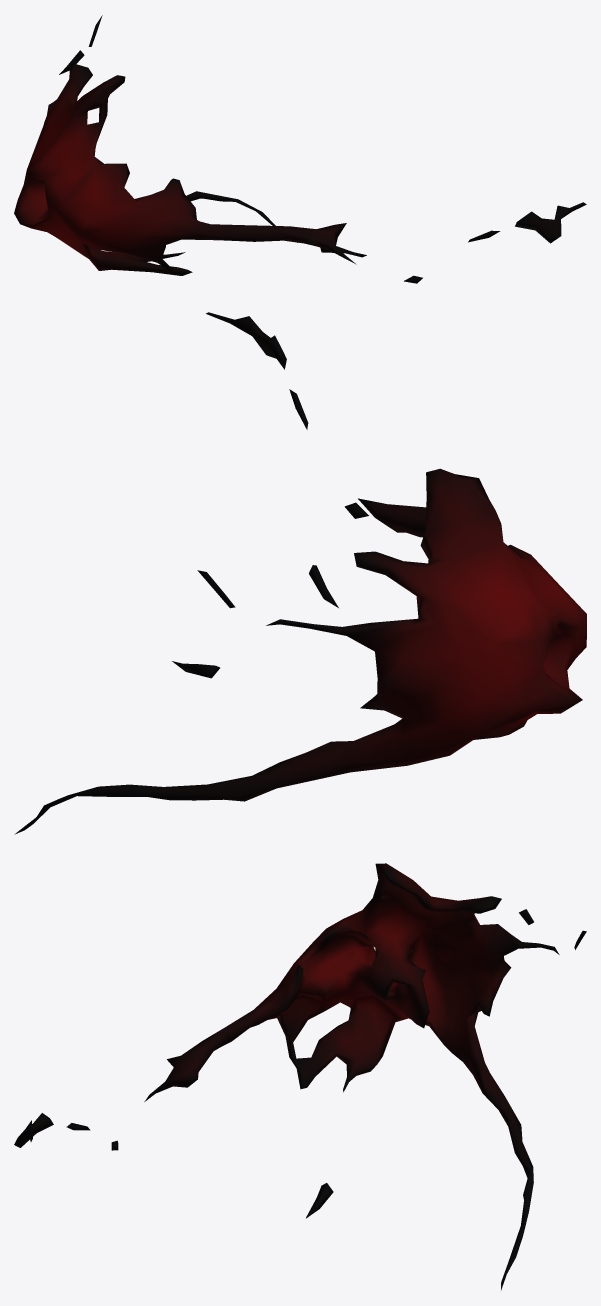
Rendered from SM_VFX_Directional_Splatter_Medium.fbx.
3 views of the same model, one above another, from view 1: azimuth 30°, elevation 25°; view 2: azimuth 150°, elevation 25°; view 3: azimuth 270°, elevation 25° (orthographic). The views are drawn at different scales.
Visible parts, largest first — view 1: SM_VFX_Directional_Splatter_Medium; view 2: SM_VFX_Directional_Splatter_Medium; view 3: SM_VFX_Directional_Splatter_Medium.
Part boxes in pixels (x1,y1,x2,y2): SM_VFX_Directional_Splatter_Medium: (14,15,586,283); SM_VFX_Directional_Splatter_Medium: (14,312,586,834); SM_VFX_Directional_Splatter_Medium: (14,863,586,1290).
Bounding box in the file's own units: 154 × 94.28 × 165.
